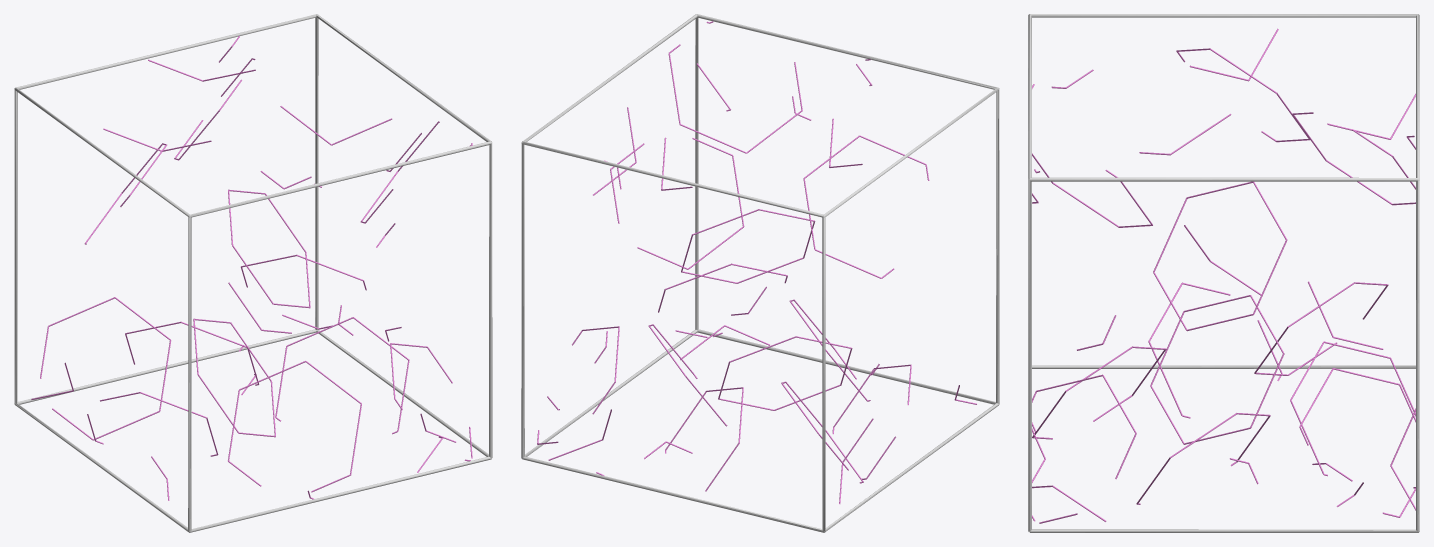
The model's file is DDD000.glb.
3 views of the same model, side by side, from view 1: azimuth 30°, elevation 25°; view 2: azimuth 150°, elevation 25°; view 3: azimuth 270°, elevation 25° (orthographic). The views are drawn at different scales.
Parts seen in each view (by area): view 1: Shape_IndexedLineSet, Shape_IndexedLineSet.001; view 2: Shape_IndexedLineSet, Shape_IndexedLineSet.001; view 3: Shape_IndexedLineSet, Shape_IndexedLineSet.001.
Part boxes in pixels (box(x1,y1,x2,y2)): Shape_IndexedLineSet: box(14, 14, 492, 532); Shape_IndexedLineSet.001: box(31, 36, 472, 500); Shape_IndexedLineSet: box(521, 14, 999, 532); Shape_IndexedLineSet.001: box(537, 21, 976, 504); Shape_IndexedLineSet: box(1028, 14, 1419, 532); Shape_IndexedLineSet.001: box(1032, 28, 1415, 523).
Bounding box in the file's own units: 10.1 × 10.1 × 10.1.
